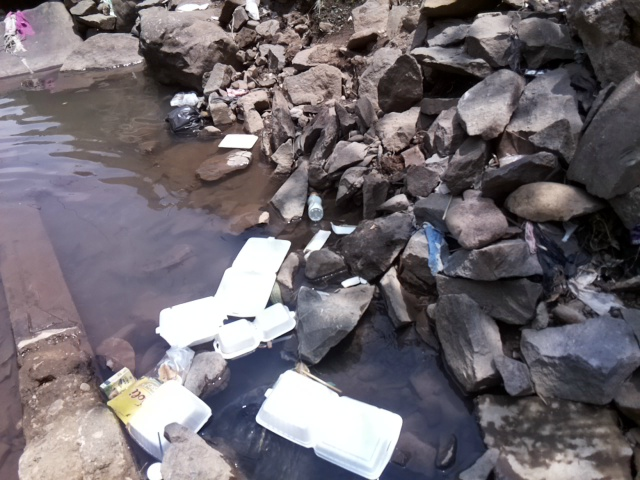Sampah_Botol_Plastik: (304, 188, 328, 223)
Sampah_Plastik: (165, 105, 204, 134), (167, 89, 202, 104)
Sampah_Styrofoam: (153, 235, 301, 359), (254, 367, 406, 478), (121, 375, 217, 462), (303, 223, 358, 255), (217, 131, 262, 152)
